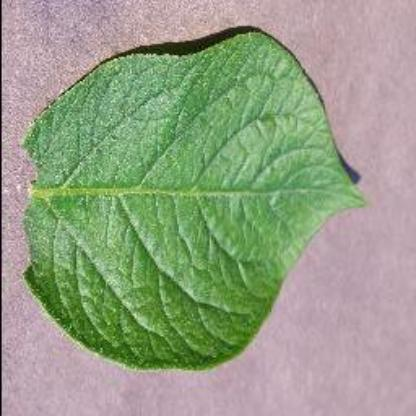Healthy-plant: (20, 31, 364, 377)
